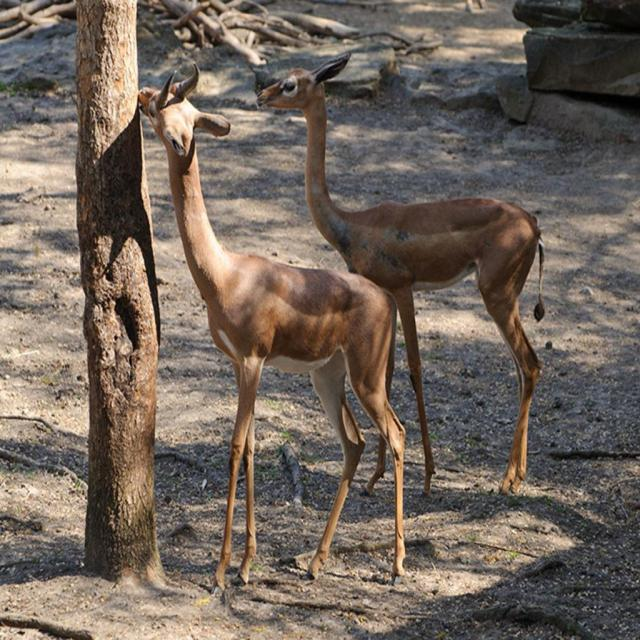Deer: (136, 62, 405, 589), (260, 49, 546, 490)
